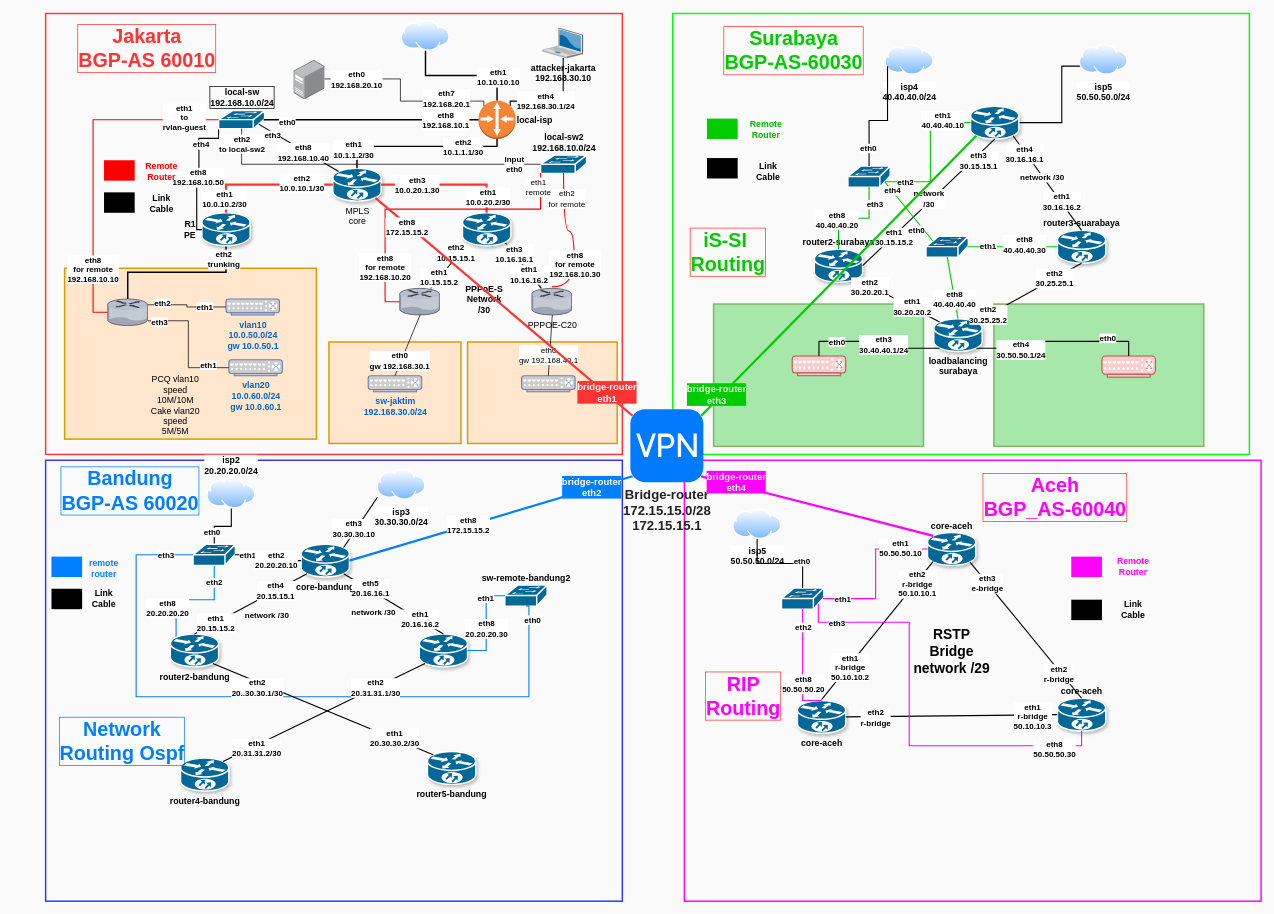
Image size: 1274x914. Some labels were removed from this diagram. Each missing label, with the centre of its shape:
core-surabaya: the point at 995,123
iperf3-jakarta: the point at 309,79
isp1 10.10.10.1/24: the point at 425,35
PPPOE-C10: the point at 419,301
R3 PE: the point at 487,230
router3-bandung: the point at 443,651
rvlan-guest eth1 trunk eth2 vlan10 eth3 vlan20: the point at 127,312
sw-jaksel 192.168.40.0/24: the point at 547,383
sw-loadbalancing1: the point at 818,365
sw-loadbalancing2: the point at 1128,366
sw-remote-aceh: the point at 802,598
sw-remote-surabaya: the point at 869,176
sw-remote-surabaya2: the point at 947,246
